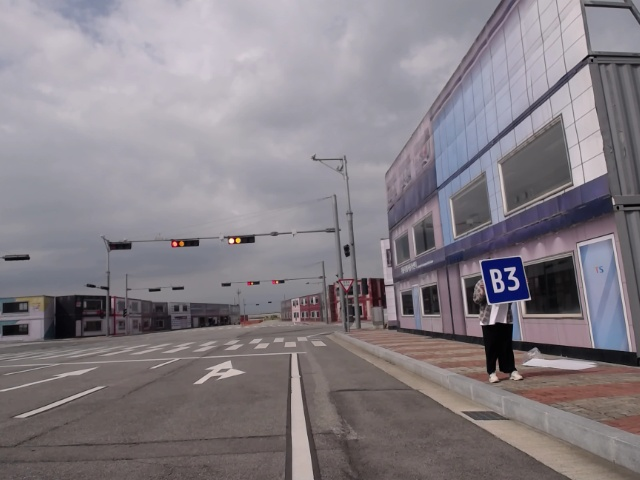delivery_b3: (478, 256, 532, 304)
